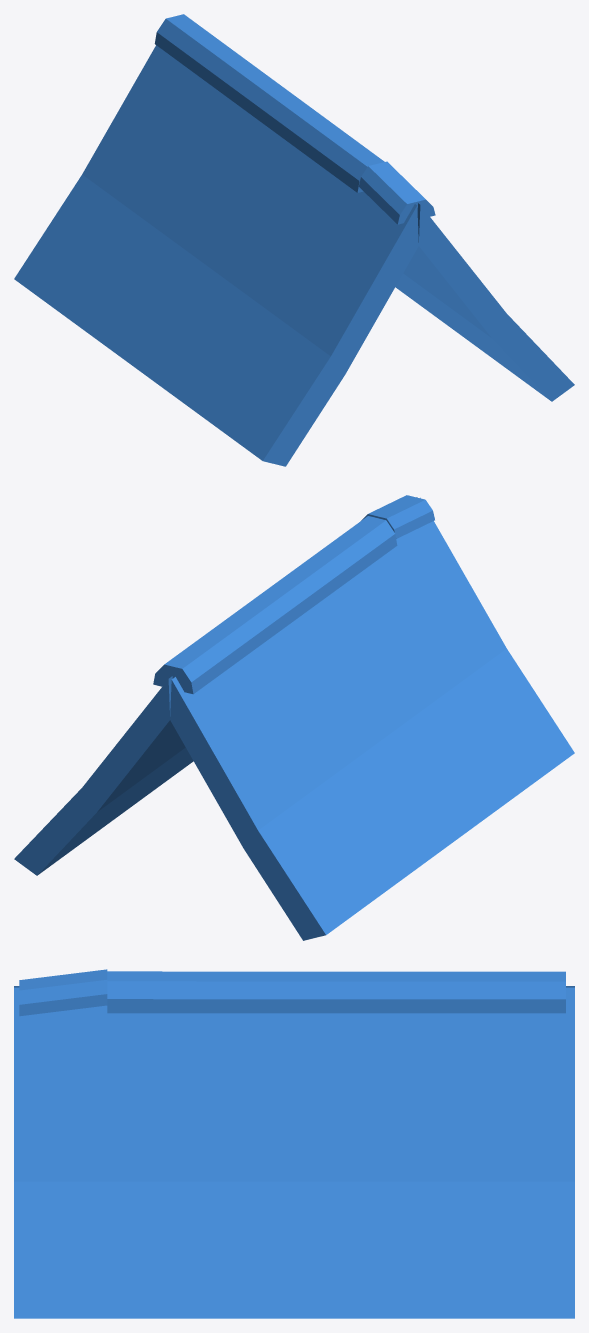
The model's file is Collision_Roof_FlatTiles_4x6.fbx.
3 renders of one model, top to bottom at view 1: azimuth 30°, elevation 25°; view 2: azimuth 150°, elevation 25°; view 3: azimuth 270°, elevation 25°, orthographic. The views are drawn at different scales.
Parts seen in each view (by area): view 1: UCX_Roof_FlatTiles_4x6_01; view 2: UCX_Roof_FlatTiles_4x6_01; view 3: UCX_Roof_FlatTiles_4x6_01.
Part boxes in pixels (x1=…): UCX_Roof_FlatTiles_4x6_01: x1=14, y1=14, x2=574, y2=466; UCX_Roof_FlatTiles_4x6_01: x1=14, y1=495, x2=574, y2=940; UCX_Roof_FlatTiles_4x6_01: x1=14, y1=969, x2=574, y2=1318.
Bounding box in the file's own units: 555 × 408 × 766.
